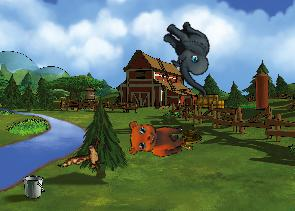bear: (124, 111, 188, 162)
eagle: (57, 128, 114, 187)
elephant: (145, 14, 234, 98)
